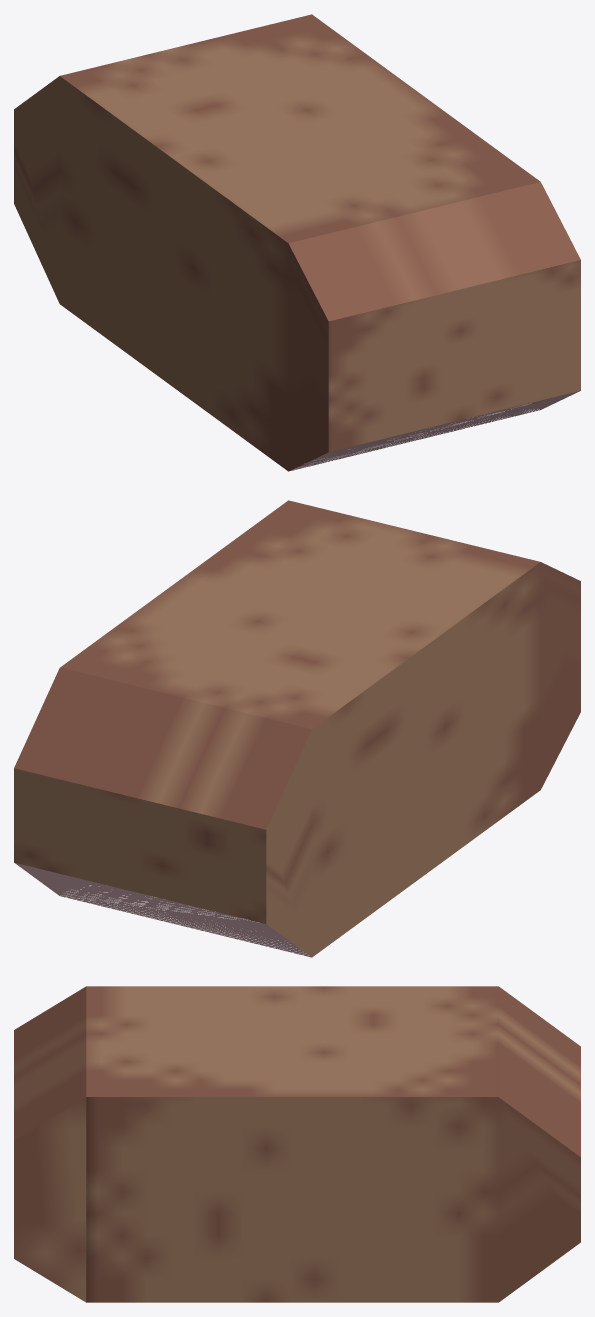
Rendered from TijoloBarricada.fbx.
3 views of the same model, one above another, from view 1: azimuth 30°, elevation 25°; view 2: azimuth 150°, elevation 25°; view 3: azimuth 270°, elevation 25° (orthographic). The views are drawn at different scales.
Parts seen in each view (by area): view 1: Barricada.001; view 2: Barricada.001; view 3: Barricada.001.
Boxes of the visible parts, x1,y1,x2,y2 form: Barricada.001: [14, 14, 580, 471]; Barricada.001: [14, 500, 580, 957]; Barricada.001: [14, 986, 580, 1302].
Bounding box in the file's own units: 56.69 × 122 × 49.
